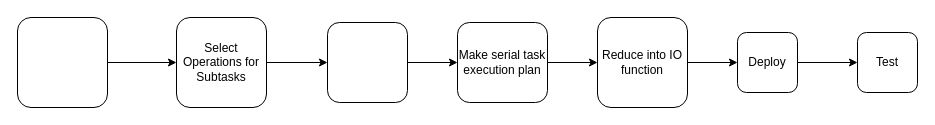
Image size: 935x125. Some labels were removed from this diagram. Here are the shapes that lost their labels. From the top down, the centre of each, then its label:
At pixel 62 62: "Prune OpenAPIs for tasks".
At pixel 367 62: "Combine into OpenAPI".
